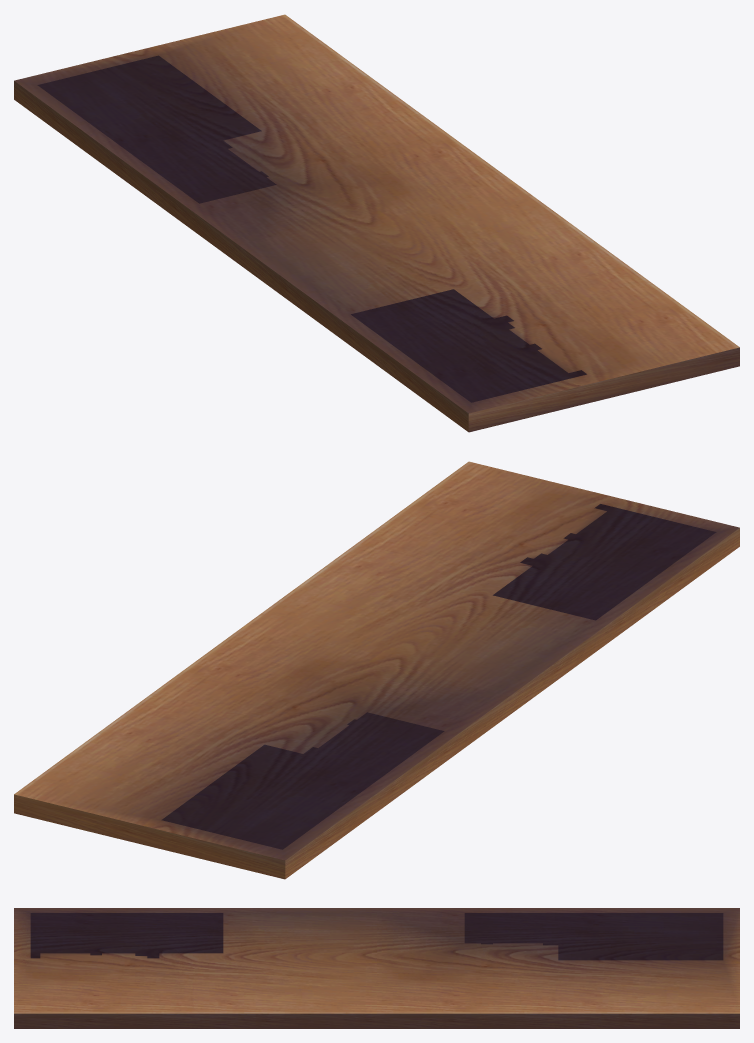
3 views of the same model, one above another, from view 1: azimuth 30°, elevation 25°; view 2: azimuth 150°, elevation 25°; view 3: azimuth 270°, elevation 25° (orthographic). The views are drawn at different scales.
Parts seen in each view (by area): view 1: Joint_0_Object_0; view 2: Joint_0_Object_0; view 3: Joint_0_Object_0.
Part boxes in pixels (x1,y1,x2,y2): Joint_0_Object_0: (14,14,739,432); Joint_0_Object_0: (14,461,739,879); Joint_0_Object_0: (14,908,739,1028).
Bounding box in the file's own units: 1050 × 70 × 3050.
Materials: 1 (1 with a texture image).
